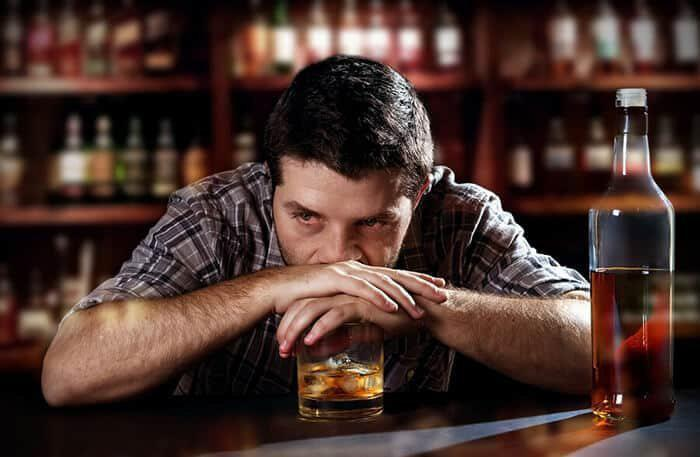Drunk: (280, 147, 405, 275)
